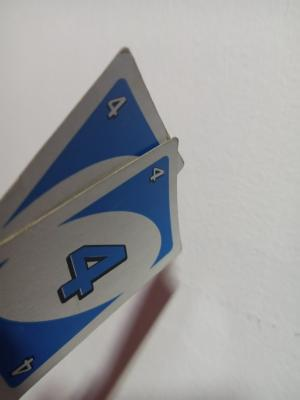blue: (28, 155, 170, 273)
num_4: (103, 89, 130, 122), (146, 165, 166, 187)
